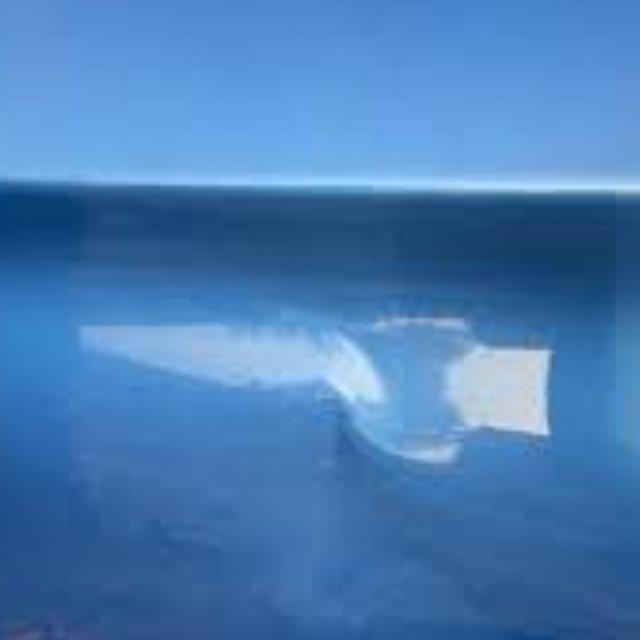dents: (296, 300, 522, 492)
